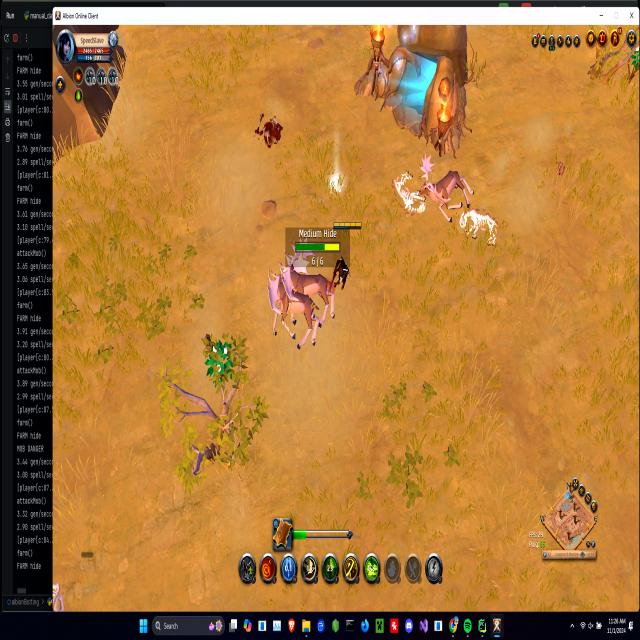hide: (206, 336, 232, 383)
mob: (268, 240, 330, 350), (420, 156, 476, 223)
red: (328, 219, 360, 295)
stone: (328, 169, 343, 196)
